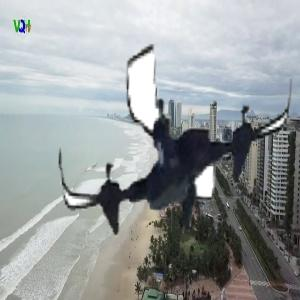drone: (58, 34, 291, 267)
